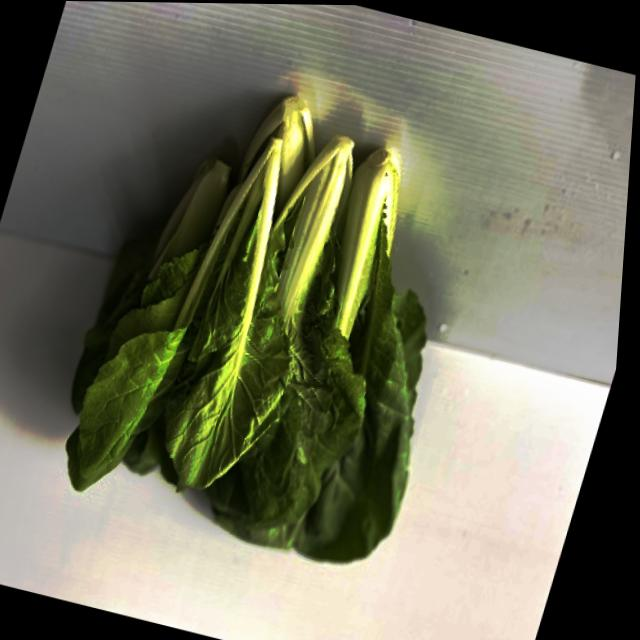chinese_cabbage: (14, 57, 529, 584)
